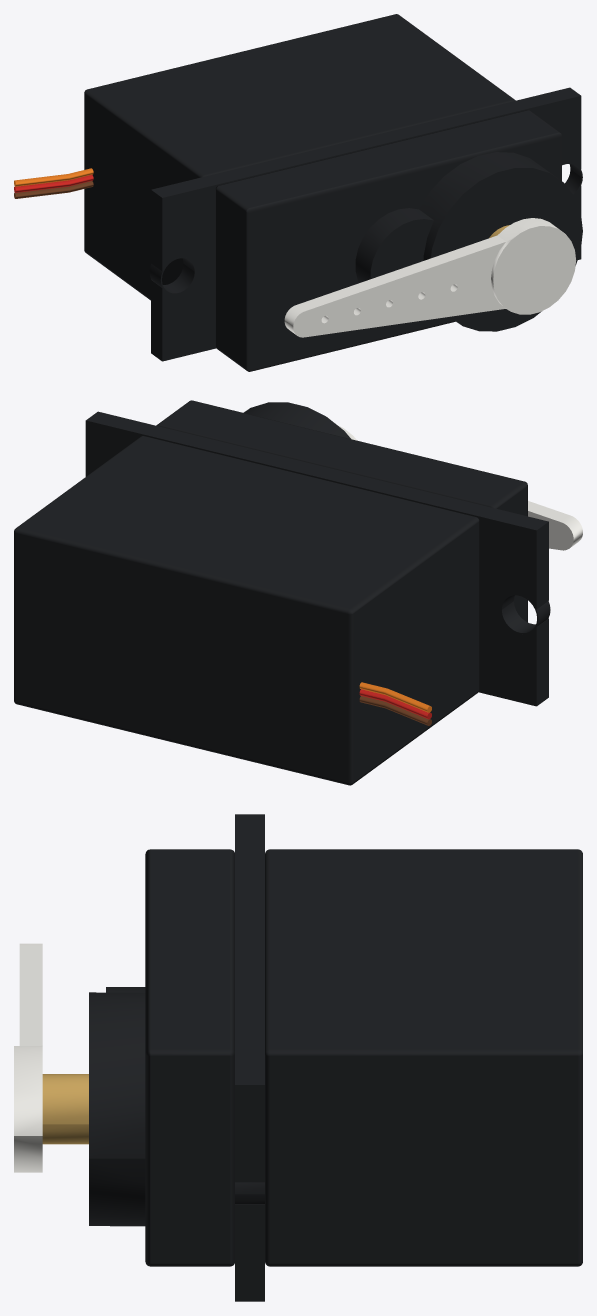
Rendered from towerpro-mg996r.glb.
3 renders of one model, top to bottom at view 1: azimuth 30°, elevation 25°; view 2: azimuth 150°, elevation 25°; view 3: azimuth 270°, elevation 25°, orthographic. The views are drawn at different scales.
Parts seen in each view (by area): view 1: body, body_top, horn, tabs, gear_tower, mount_hole_1, cable_3, cable_2, cable_1; view 2: body, tabs, body_top, gear_tower, horn, mount_hole_1, cable_3, cable_1, cable_2; view 3: body, body_top, tabs, gear_tower, horn, spline, mount_hole_2.
Boxes of the visible parts, bbox=[...] form: body: bbox=[84, 14, 515, 300]; body_top: bbox=[215, 110, 561, 371]; horn: bbox=[284, 218, 576, 337]; tabs: bbox=[151, 87, 581, 361]; gear_tower: bbox=[355, 152, 582, 331]; mount_hole_1: bbox=[149, 257, 195, 294]; cable_3: bbox=[14, 168, 93, 186]; cable_2: bbox=[14, 175, 93, 192]; cable_1: bbox=[14, 181, 93, 198]; body: bbox=[14, 436, 479, 785]; tabs: bbox=[85, 411, 548, 706]; body_top: bbox=[156, 400, 527, 622]; gear_tower: bbox=[243, 402, 350, 438]; horn: bbox=[337, 425, 582, 550]; mount_hole_1: bbox=[500, 594, 550, 634]; cable_3: bbox=[359, 682, 431, 712]; cable_1: bbox=[359, 696, 431, 725]; cable_2: bbox=[359, 689, 431, 719]; body: bbox=[265, 849, 582, 1266]; body_top: bbox=[145, 849, 234, 1266]; tabs: bbox=[235, 814, 264, 1301]; gear_tower: bbox=[89, 987, 145, 1226]; horn: bbox=[14, 943, 42, 1172]; spline: bbox=[42, 1074, 88, 1144]; mount_hole_2: bbox=[235, 1182, 264, 1203].
Size of the model in its own units: 56.24 by 20.05 by 47.6.
